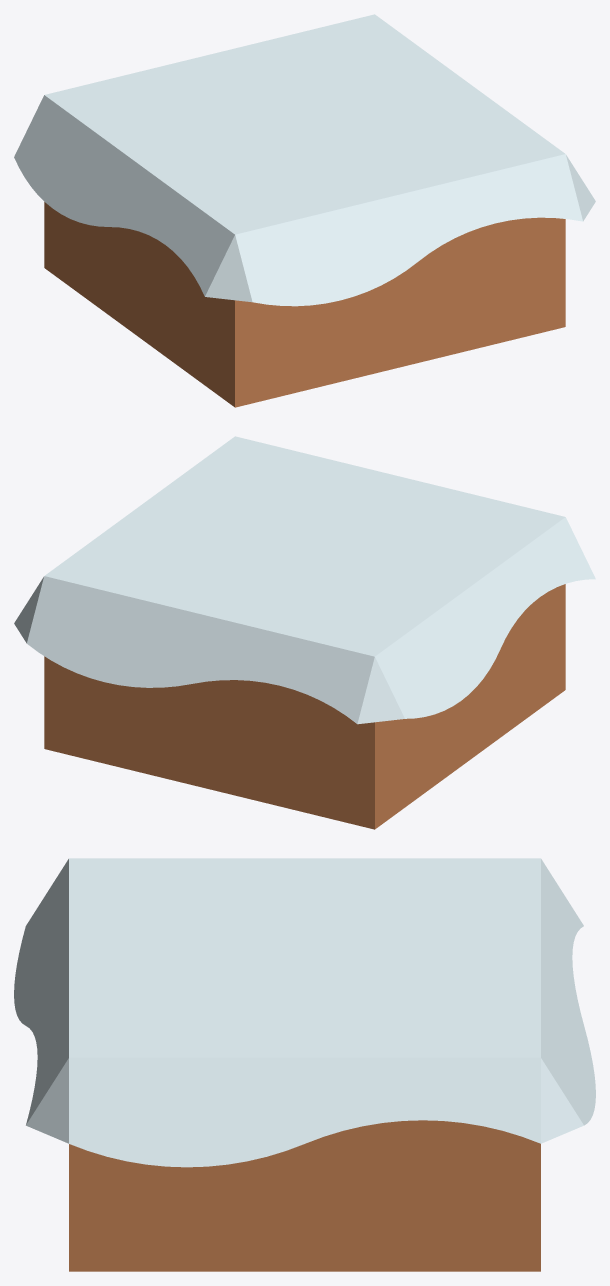
The model's file is blockSnowHalf.dae.
3 renders of one model, top to bottom at view 1: azimuth 30°, elevation 25°; view 2: azimuth 150°, elevation 25°; view 3: azimuth 270°, elevation 25°, orthographic. The views are drawn at different scales.
Visible parts, largest first — view 1: blockSnowHalf; view 2: blockSnowHalf; view 3: blockSnowHalf.
Part boxes in pixels (left/top/right/bottom): blockSnowHalf: left=14, top=14, right=595, bottom=407; blockSnowHalf: left=14, top=436, right=595, bottom=829; blockSnowHalf: left=14, top=858, right=595, bottom=1271.
Size of the model in its own units: 1.23 by 0.5 by 1.23.
